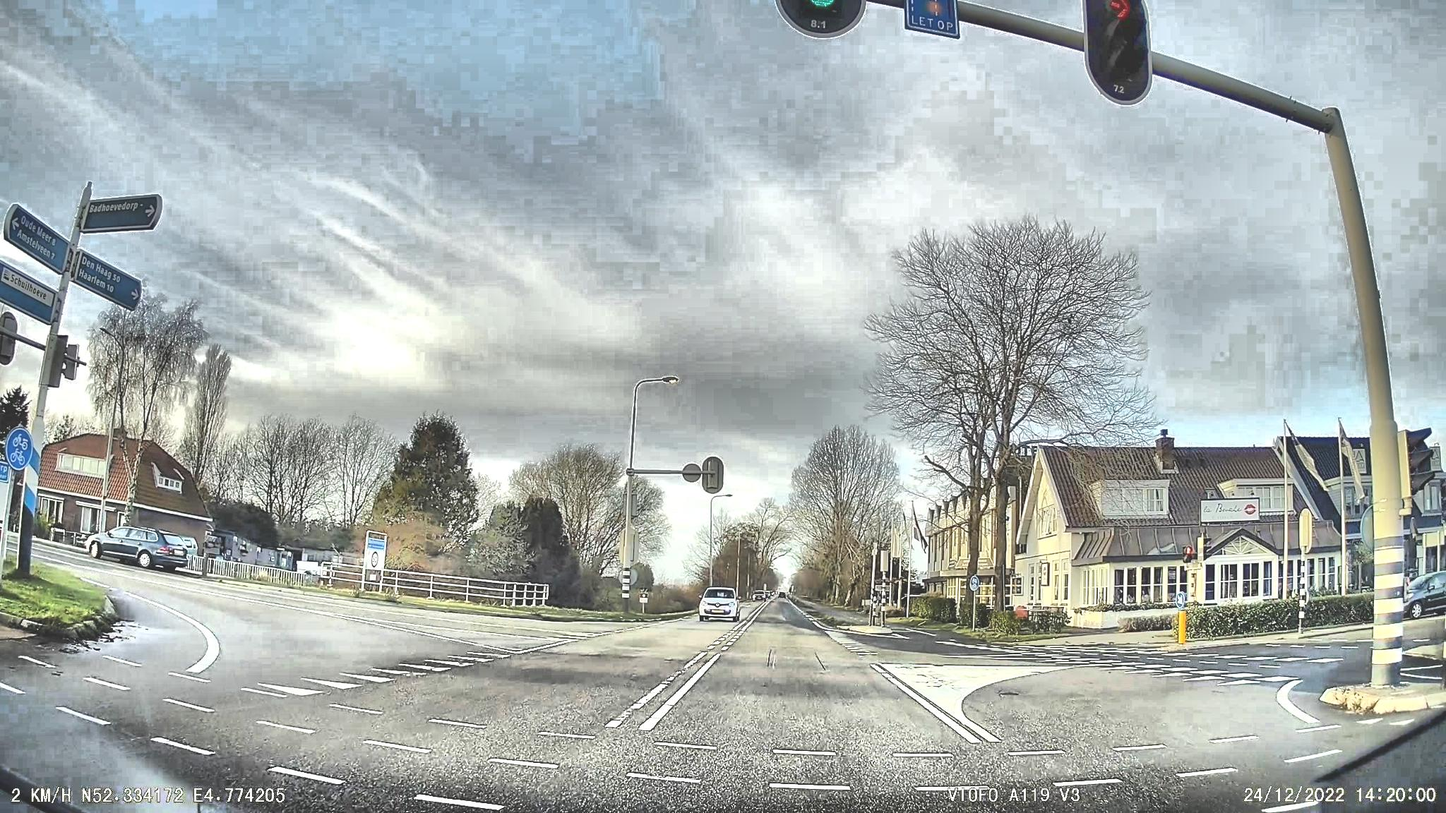Roads: (0, 568, 1446, 813)
